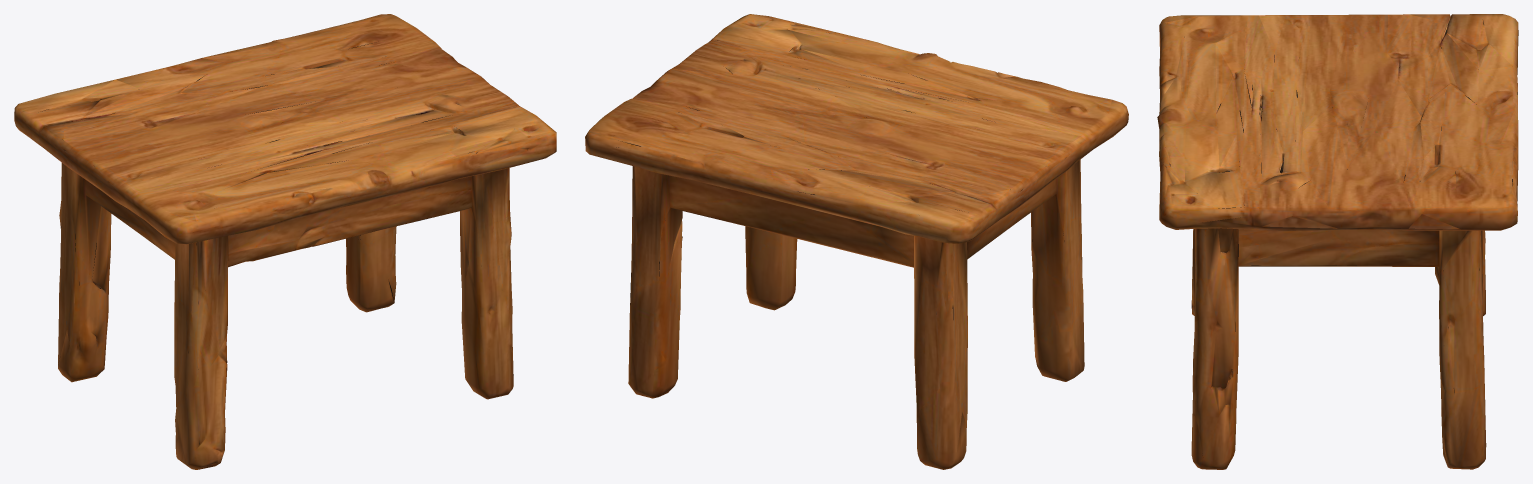
The model's file is desk.glb.
The picture shows the model from 3 angles, left to right: view 1: azimuth 30°, elevation 25°; view 2: azimuth 150°, elevation 25°; view 3: azimuth 270°, elevation 25°; orthographic projection. The views are drawn at different scales.
Parts seen in each view (by area): view 1: low; view 2: low; view 3: low.
Boxes of the visible parts, x1,y1,x2,y2 form: low: (14,14,556,469); low: (585,14,1128,469); low: (1157,14,1518,469).
Size of the model in its own units: 0.9788 by 0.6505 by 0.7546.
Materials: 1 (1 with a texture image).
